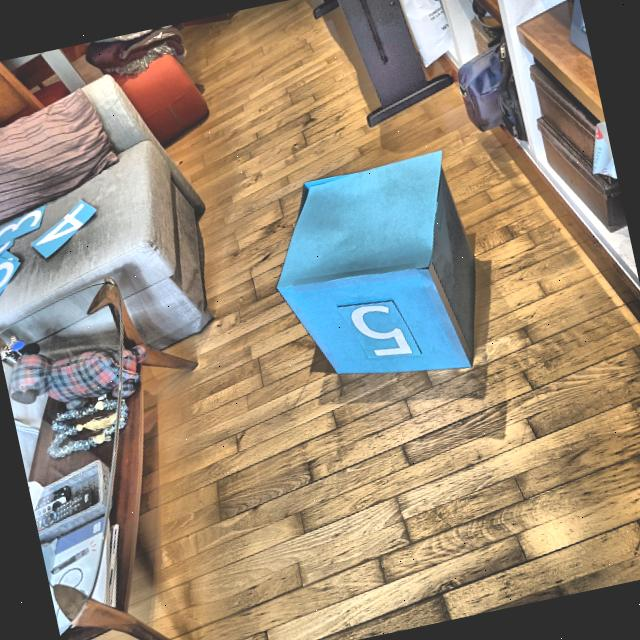blue box: (258, 144, 494, 402)
five: (340, 287, 421, 372)
